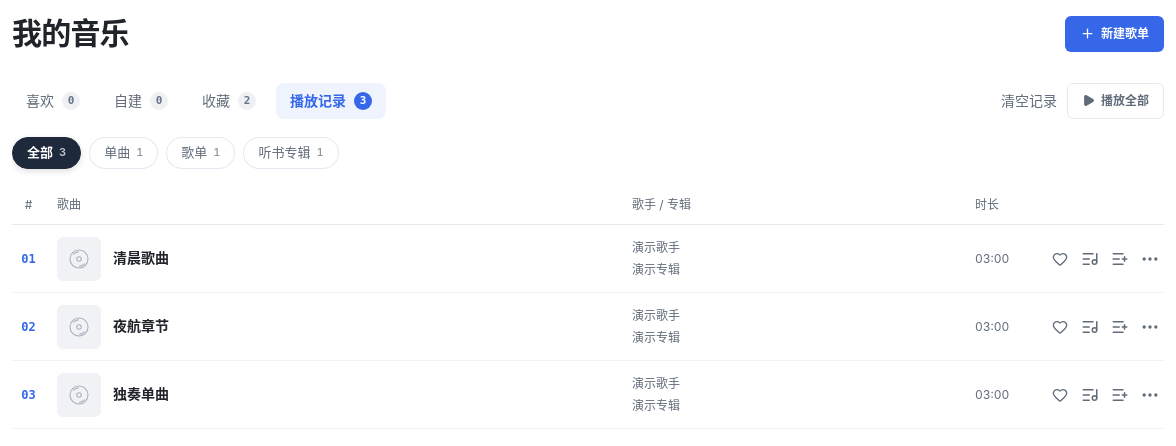
Test: 我的音乐库 › 播放记录按来源筛选，并在全部视图标记歌单/听书来源
Expected: the button "听书专辑 1" is shown, [244,136,339,168]
Click the button "歌单 1" at (201, 152), box [166,136,236,168]
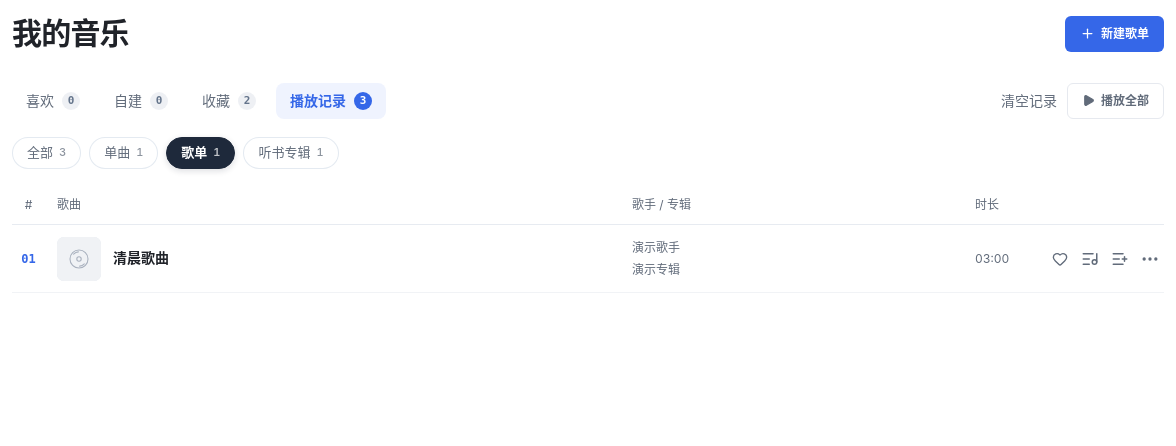
Expected: the text "清晨歌曲" is shown, [113,247,169,269]
Expected: the button "夜航章节" is gone
Expected: the button "独奏单曲" is gone
